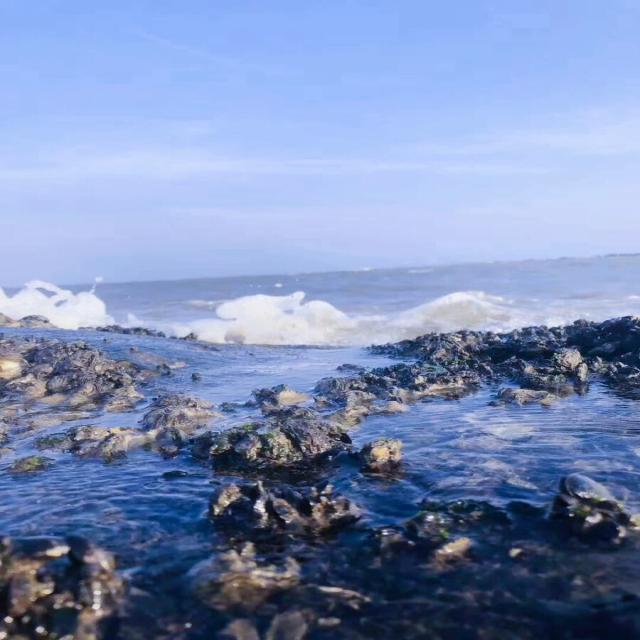reef: (34, 328, 258, 471), (385, 307, 640, 408)
